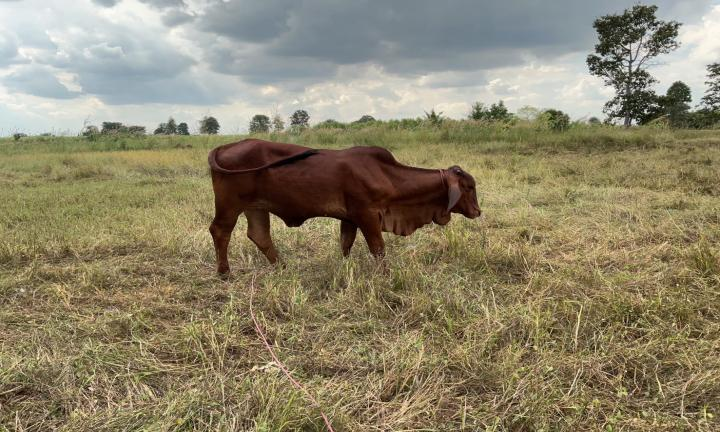Brahman: (208, 139, 480, 273)
